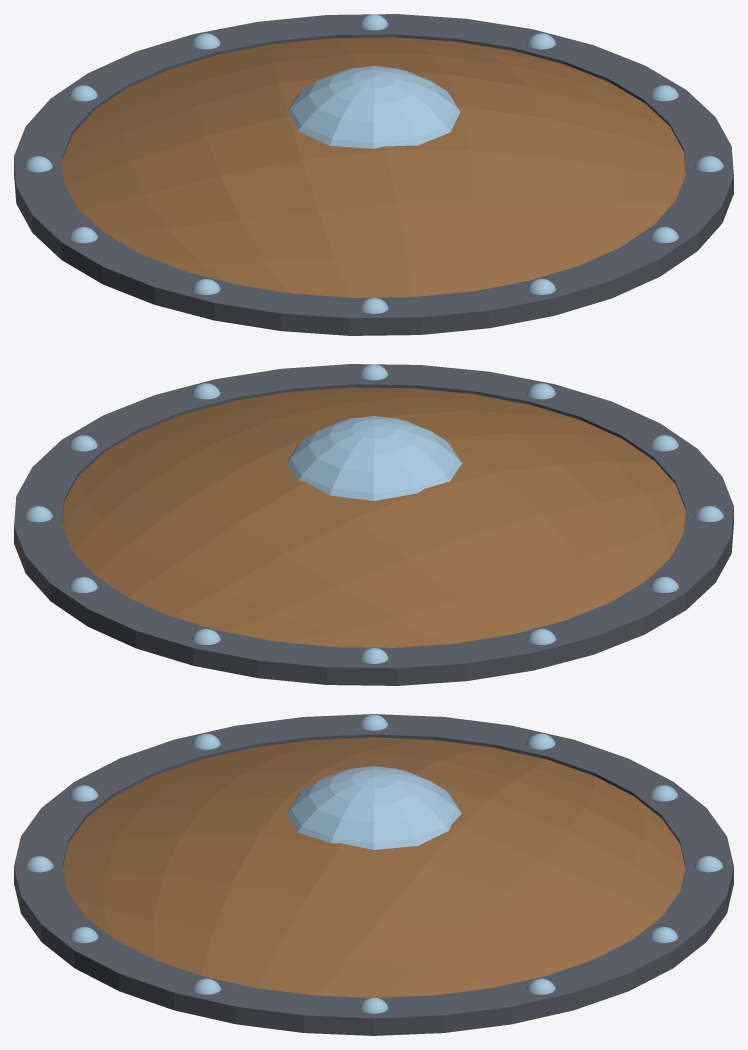
Rendered from shield.fbx.
3 renders of one model, top to bottom at view 1: azimuth 30°, elevation 25°; view 2: azimuth 150°, elevation 25°; view 3: azimuth 270°, elevation 25°, orthographic.
Parts seen in each view (by area): view 1: 원형.001, 원형, 구체.001, 구체; view 2: 원형.001, 원형, 구체.001, 구체; view 3: 원형.001, 원형, 구체.001, 구체.
Boxes of the visible parts, box(x1,y1,x2,y2) form: 원형.001: box(62, 37, 685, 297); 원형: box(14, 14, 733, 335); 구체.001: box(287, 66, 460, 148); 구체: box(24, 14, 723, 313); 원형.001: box(62, 387, 685, 647); 원형: box(14, 364, 733, 685); 구체.001: box(286, 416, 461, 500); 구체: box(24, 364, 723, 663); 원형.001: box(62, 737, 685, 997); 원형: box(14, 714, 733, 1035); 구체.001: box(286, 766, 461, 849); 구체: box(25, 714, 722, 1013).
Size of the model in its own units: 495 by 80.92 by 495.
